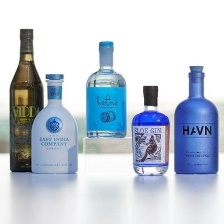bottle: (170, 57, 223, 178), (7, 25, 46, 173), (29, 69, 80, 176), (80, 34, 128, 138), (131, 77, 171, 178)
